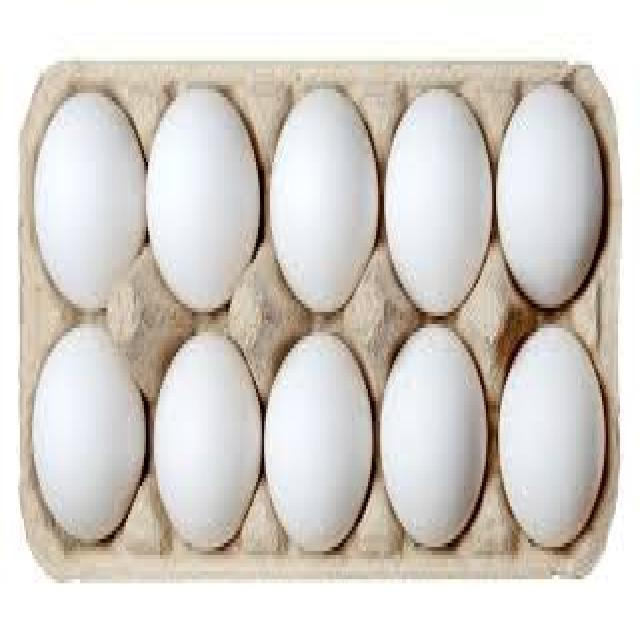White Egg: (266, 77, 382, 331), (145, 83, 268, 322), (382, 76, 496, 323), (494, 314, 607, 558), (30, 86, 146, 322), (148, 322, 263, 558), (30, 322, 149, 549), (494, 73, 606, 311), (375, 325, 491, 552), (264, 332, 376, 562)
